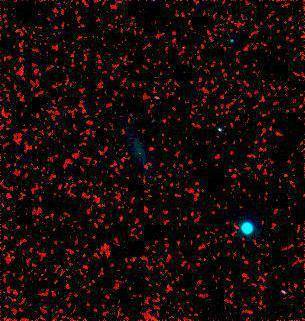star: (232, 214, 262, 244)
